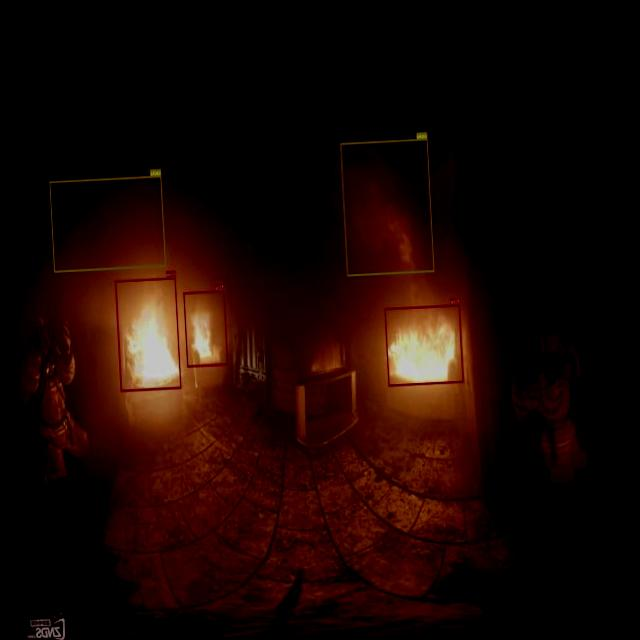fire: (116, 276, 182, 392), (385, 304, 464, 386), (184, 290, 228, 367)
smoke: (340, 138, 435, 276), (50, 175, 166, 272)
